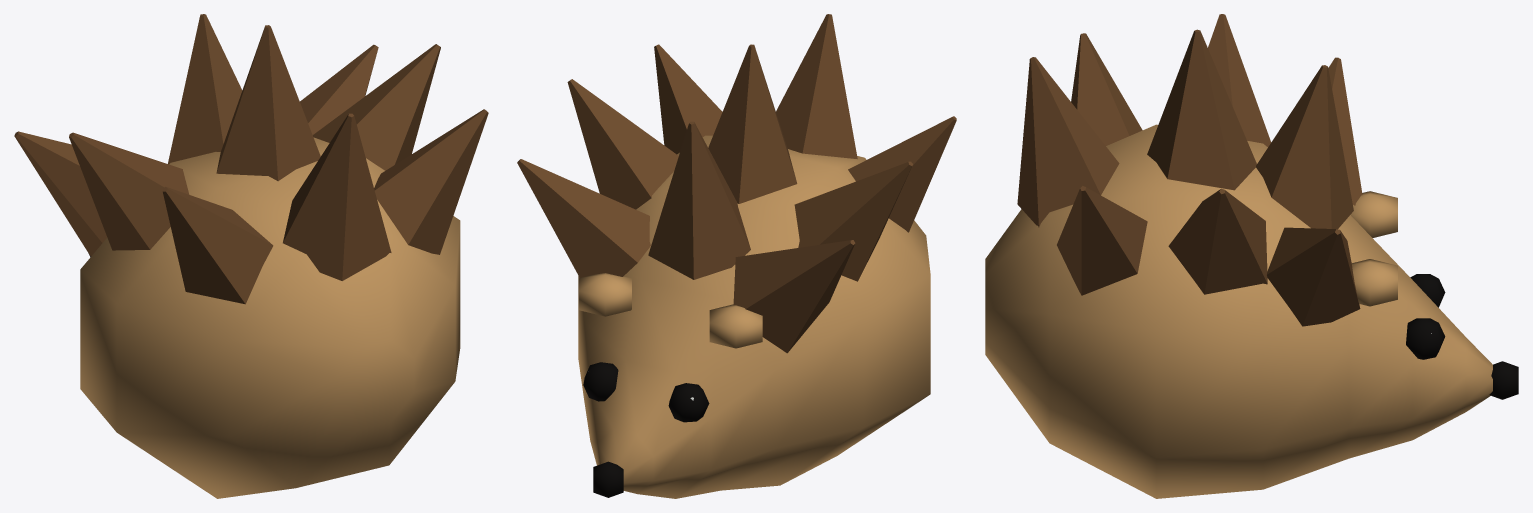
Rendered from Slime_Prickle.glb.
3 renders of one model, left to right at view 1: azimuth 30°, elevation 25°; view 2: azimuth 150°, elevation 25°; view 3: azimuth 270°, elevation 25°, orthographic. The views are drawn at different scales.
Visible parts, largest first — view 1: Slime_Prickle; view 2: Slime_Prickle; view 3: Slime_Prickle.
Boxes of the visible parts, left/top/right/bottom form: Slime_Prickle: left=14, top=14, right=488, bottom=498; Slime_Prickle: left=517, top=14, right=956, bottom=498; Slime_Prickle: left=985, top=14, right=1518, bottom=498.
Size of the model in its own units: 0.7912 by 0.896 by 0.998.
